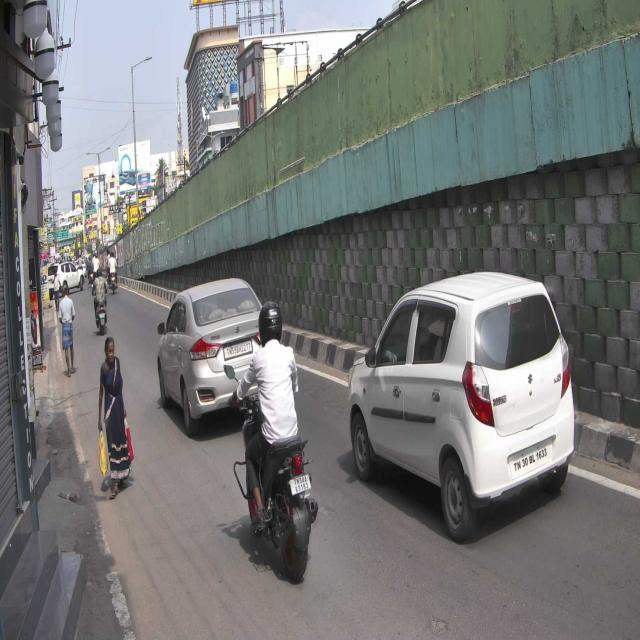single_rider: (225, 299, 320, 587)
